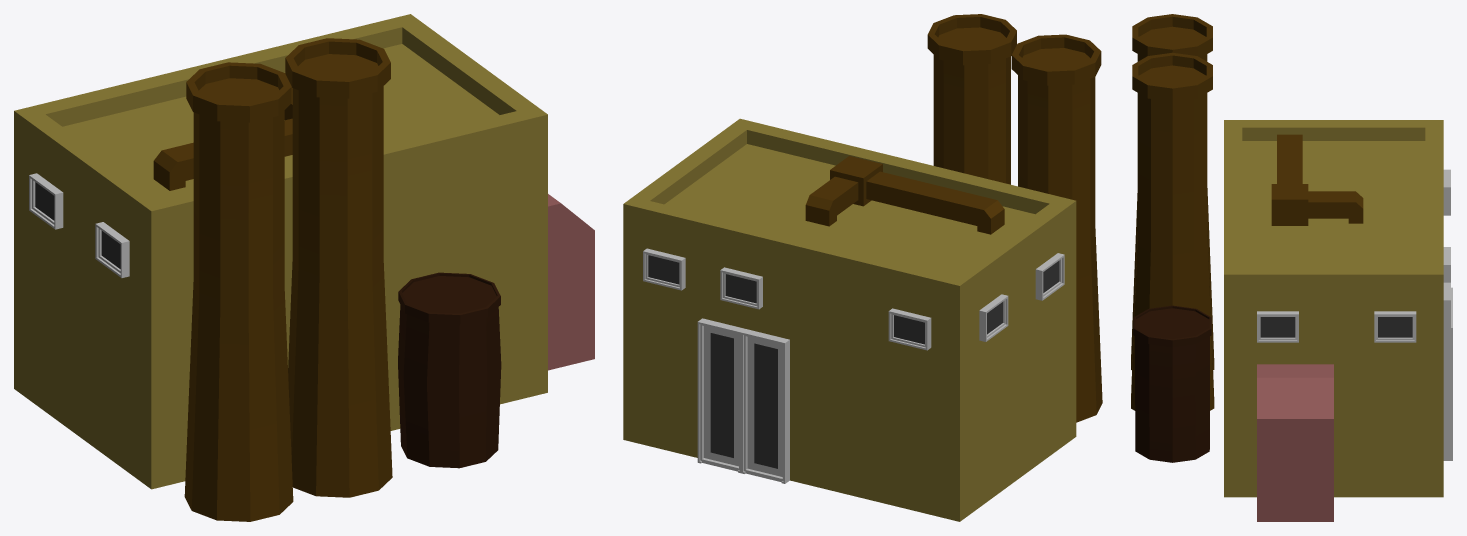
File: Building_6 (1).fbx
3 views of the same model, side by side, from view 1: azimuth 30°, elevation 25°; view 2: azimuth 150°, elevation 25°; view 3: azimuth 270°, elevation 25° (orthographic). The views are drawn at different scales.
Parts seen in each view (by area): view 1: buildig_6; view 2: buildig_6; view 3: buildig_6.
Boxes of the visible parts, x1,y1,x2,y2 form: buildig_6: (14,14,594,521); buildig_6: (623,14,1102,521); buildig_6: (1131,14,1452,521).
Size of the model in its own units: 1190 by 1000 by 878.
